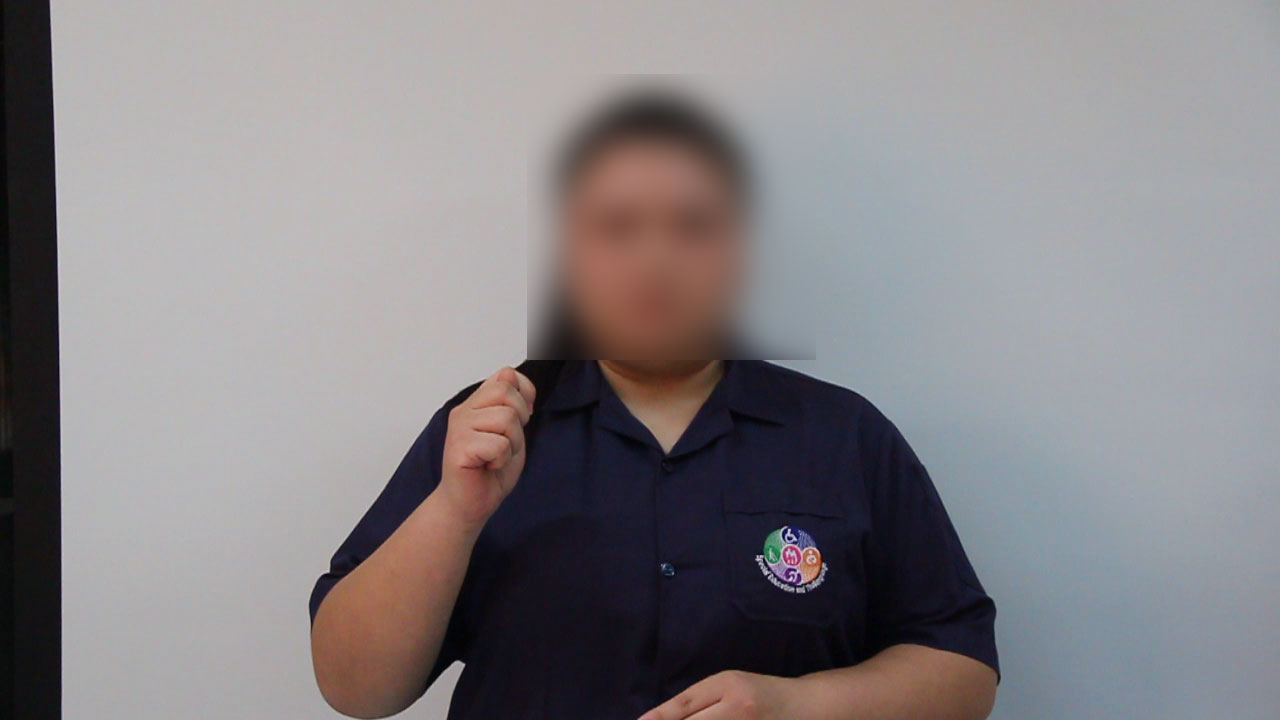tor: (428, 356, 551, 530)
